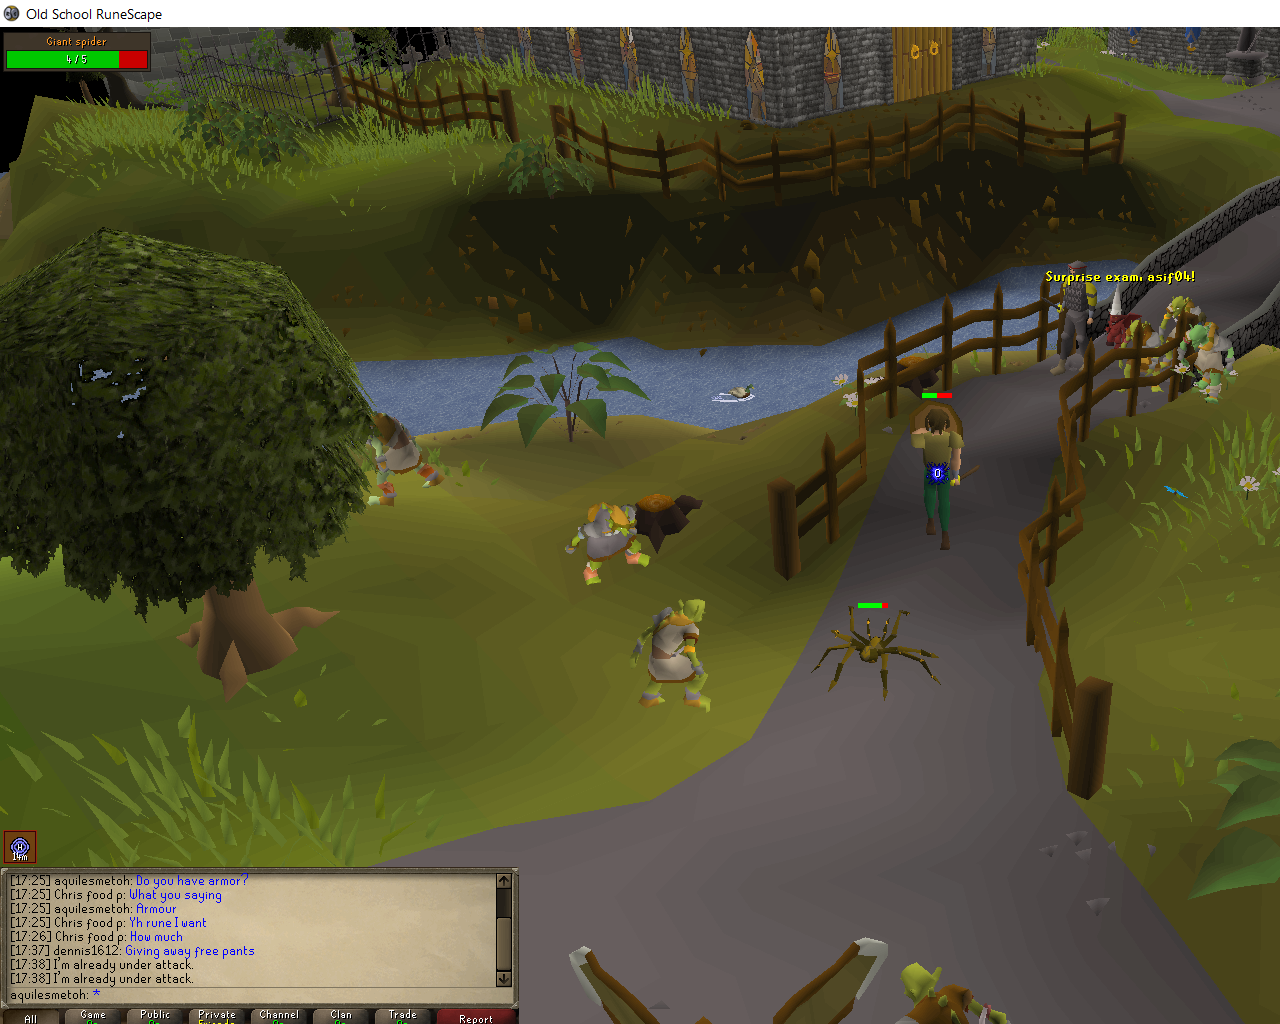Goblin: (343, 403, 453, 509), (628, 594, 715, 714), (564, 499, 653, 589), (897, 958, 1013, 1024), (1172, 322, 1242, 401), (1116, 317, 1164, 395), (1159, 295, 1204, 368)
